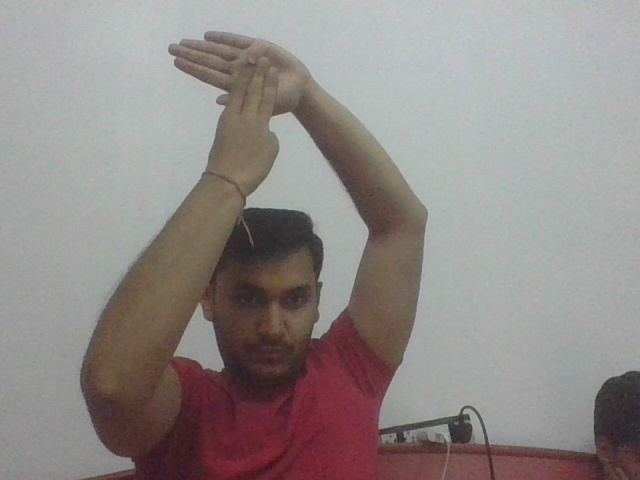M: (165, 25, 309, 141)
